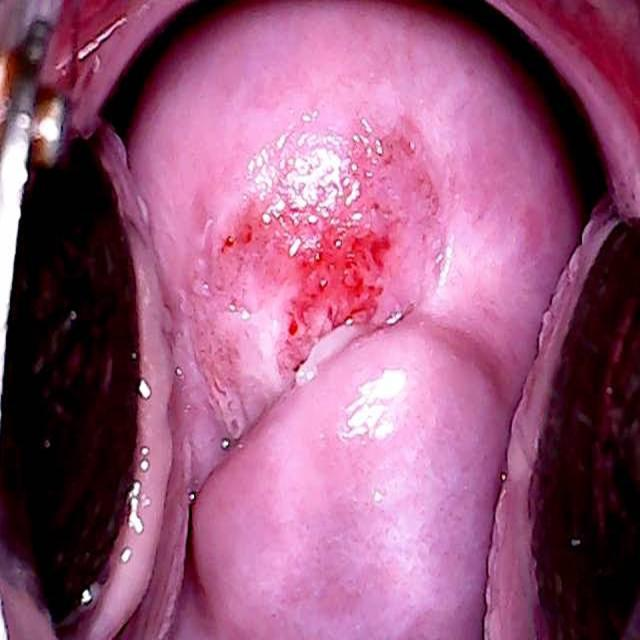cervical_lesion: (156, 107, 467, 507)
